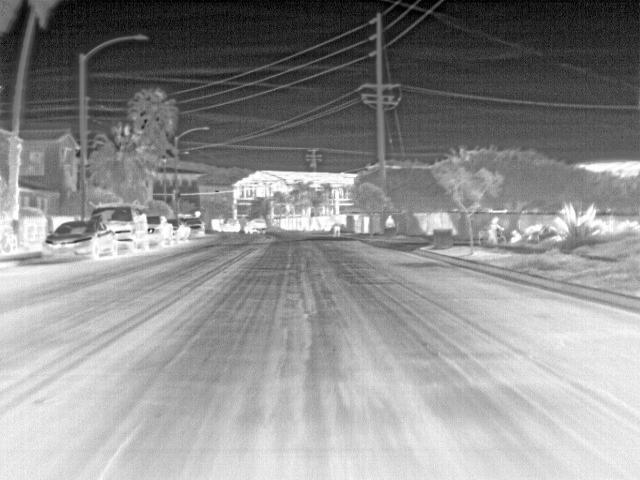car: (43, 220, 118, 260), (94, 204, 148, 250), (146, 214, 173, 246), (244, 218, 267, 236), (165, 216, 181, 240), (187, 216, 207, 235), (221, 216, 240, 232), (176, 218, 192, 237)
person: (508, 226, 524, 246), (384, 214, 396, 234), (331, 219, 343, 239), (489, 218, 501, 236)
